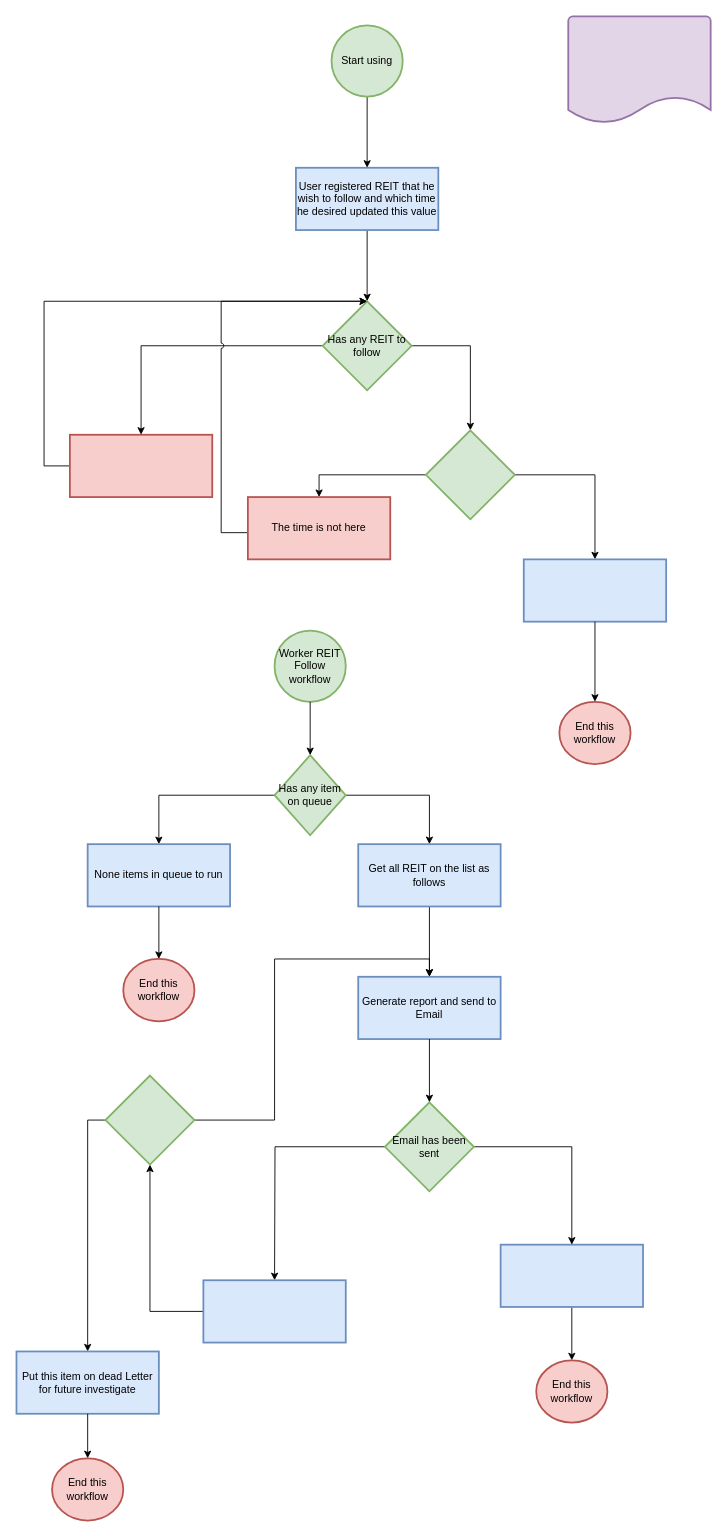
This 726x1536 diagram has some shape labels left out. The centre of each missing label's shape, as x and y in pixels:
"Don't found any REIT to follow" belongs at (141,465).
"Is retry limit" belongs at (149,1119).
"It's time to updated REIT" belongs at (470,474).
"REIT = Real State Investment Trust" belongs at (639,69).
"Send an event to Queue for this user update her REIT's" belongs at (594,590).
"Try retry" belongs at (274,1311).
"Update all REIT value on database and remove item from queue" belongs at (571,1275).
